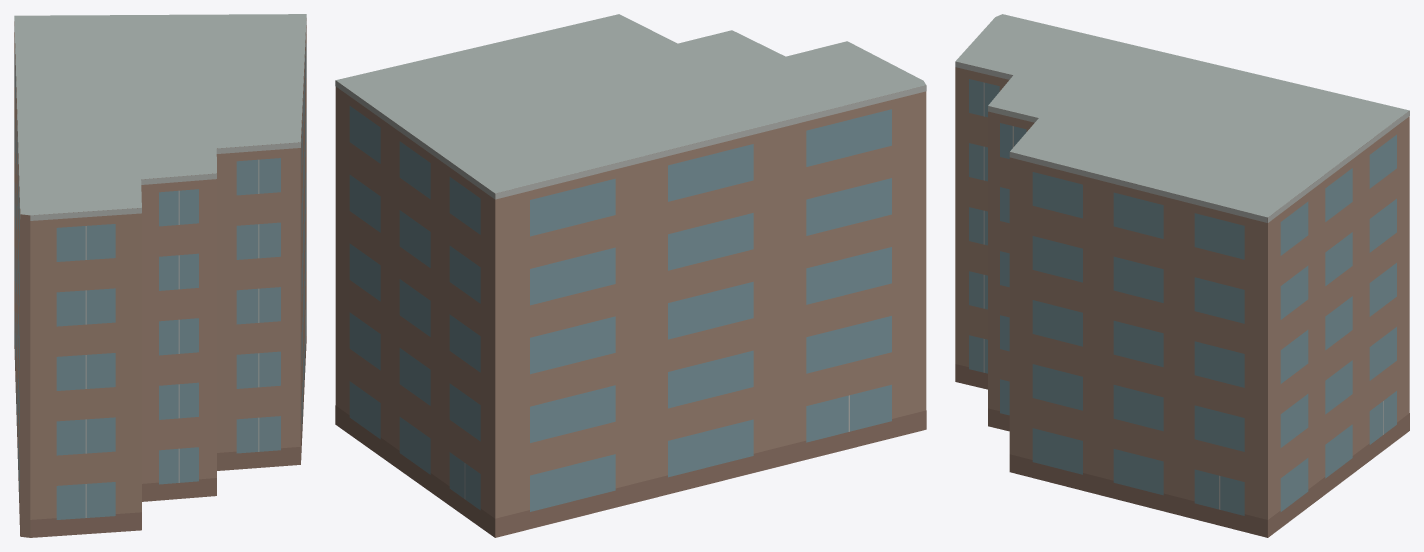
Rendered from survey-upis-32835389.glb.
3 views of the same model, side by side, from view 1: azimuth 30°, elevation 25°; view 2: azimuth 150°, elevation 25°; view 3: azimuth 270°, elevation 25° (orthographic). The views are drawn at different scales.
Parts seen in each view (by area): view 1: survey-upis-32835389.tmp; view 2: survey-upis-32835389.tmp; view 3: survey-upis-32835389.tmp.
Part boxes in pixels (x1,y1,x2,y2): survey-upis-32835389.tmp: (14,14,306,537); survey-upis-32835389.tmp: (335,14,926,537); survey-upis-32835389.tmp: (955,14,1409,537).
Bounding box in the file's own units: 18.95 × 13.9 × 17.88.
